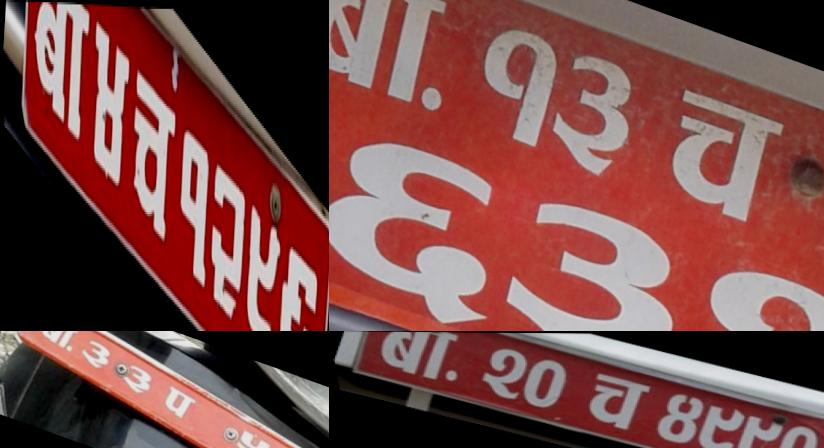0: (506, 351, 581, 413), (757, 417, 824, 448)
1: (439, 6, 581, 155), (169, 115, 217, 291)
2: (646, 241, 824, 331), (200, 151, 250, 331), (463, 340, 543, 402)
3: (460, 178, 706, 331), (527, 41, 657, 185), (76, 337, 112, 369), (120, 363, 154, 393)
4: (82, 13, 134, 194), (637, 386, 716, 448)
5: (228, 427, 269, 448)
6: (329, 112, 533, 331), (269, 227, 323, 331)
9: (234, 181, 285, 331), (679, 398, 753, 448), (720, 408, 788, 448)
ba: (329, 0, 466, 118), (26, 1, 94, 152), (362, 332, 469, 384), (37, 331, 81, 352)
cha: (629, 72, 803, 239), (121, 59, 182, 251), (566, 367, 660, 434)
pa: (155, 381, 197, 422)
